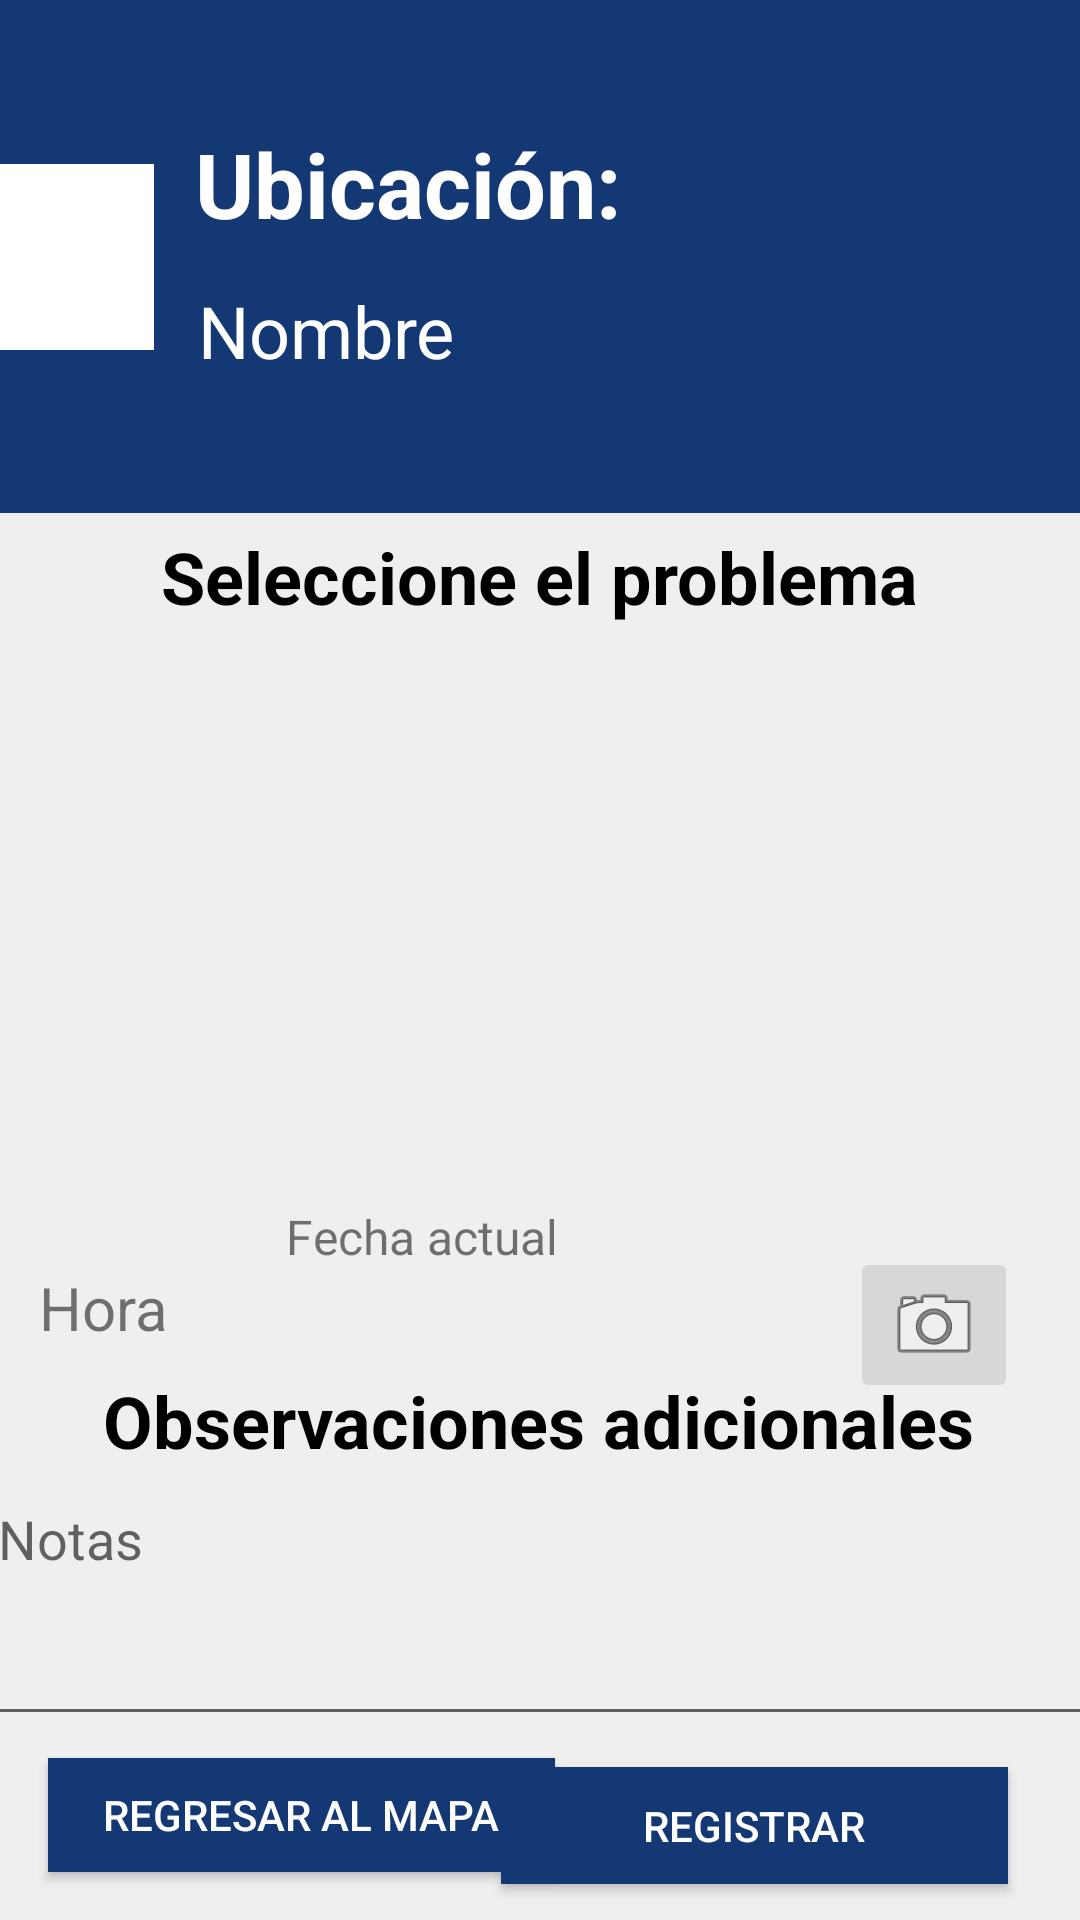

Named icons in this screenshot (1080x1920) and their bounding boxes, bbox=[x1, y1, x2, y2]:
camera: bbox=[862, 1265, 1006, 1385]
